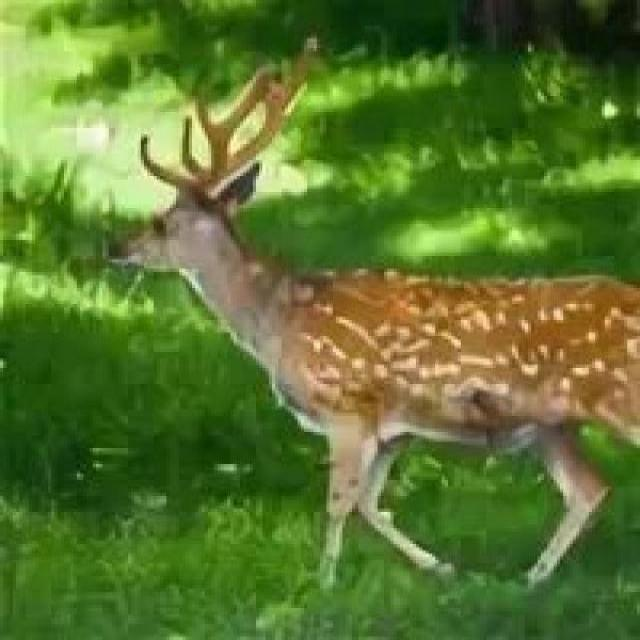deer: (108, 95, 640, 540)
